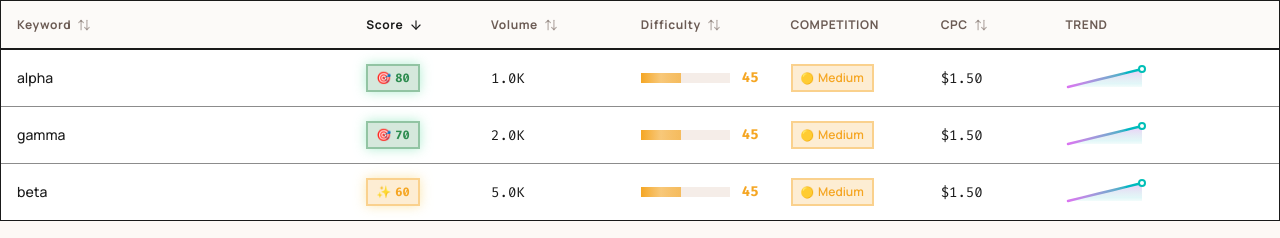
Scenario: KeywordTable › sorting › toggles sort direction when clicking same column
# Click on Score header to toggle direction
Click the button "Score" at (395, 24), box x1=366 y1=16 x2=423 y2=32
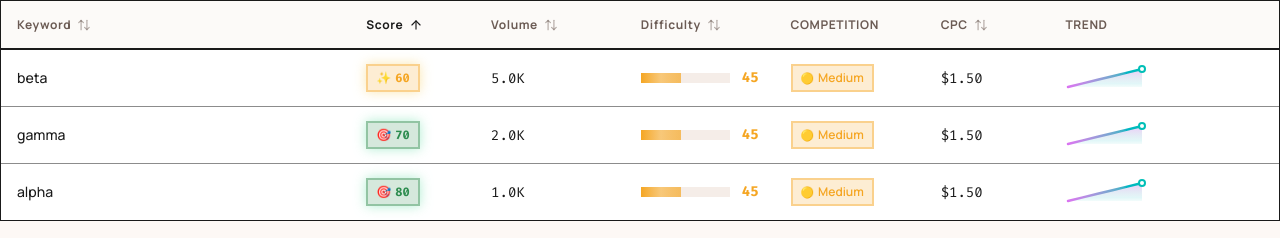
Expected: the row "beta ✨ 60 5.0K 45 🟡 Medium $1.50" is shown, x1=1 y1=49 x2=1279 y2=106
